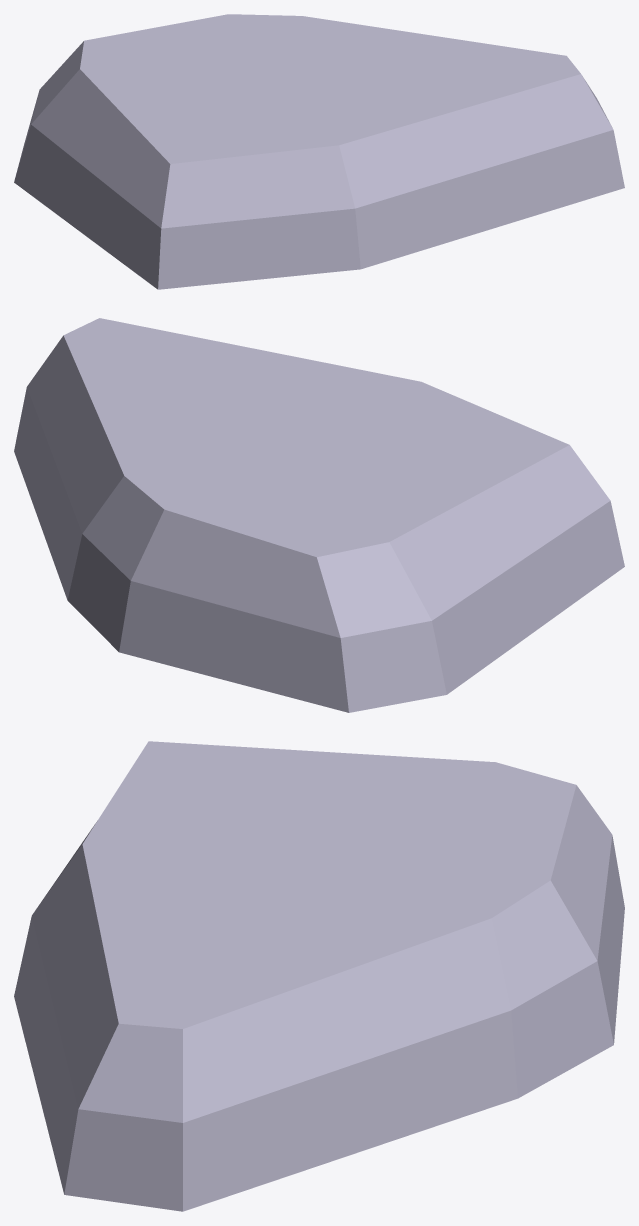
File: Barrior-stone03.fbx
3 renders of one model, top to bottom at view 1: azimuth 30°, elevation 25°; view 2: azimuth 150°, elevation 25°; view 3: azimuth 270°, elevation 25°, orthographic. The views are drawn at different scales.
Visible parts, largest first — view 1: Barrior-stone03; view 2: Barrior-stone03; view 3: Barrior-stone03.
Boxes of the visible parts, x1,y1,x2,y2 form: Barrior-stone03: (14, 14, 624, 289); Barrior-stone03: (14, 318, 624, 712); Barrior-stone03: (14, 741, 624, 1211).
Bounding box in the file's own units: 2868 × 609 × 2195.
